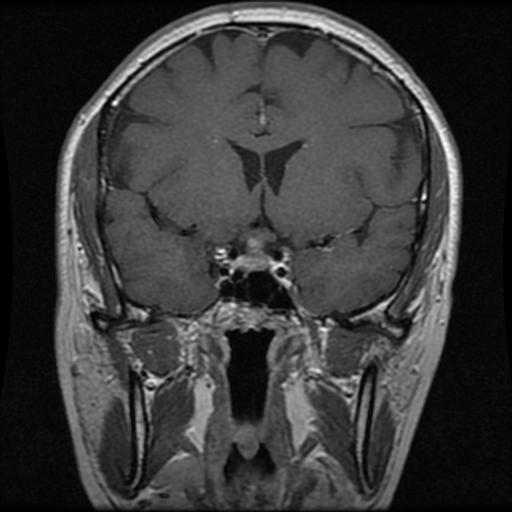Pituirity_tumour: (233, 236, 273, 272)
